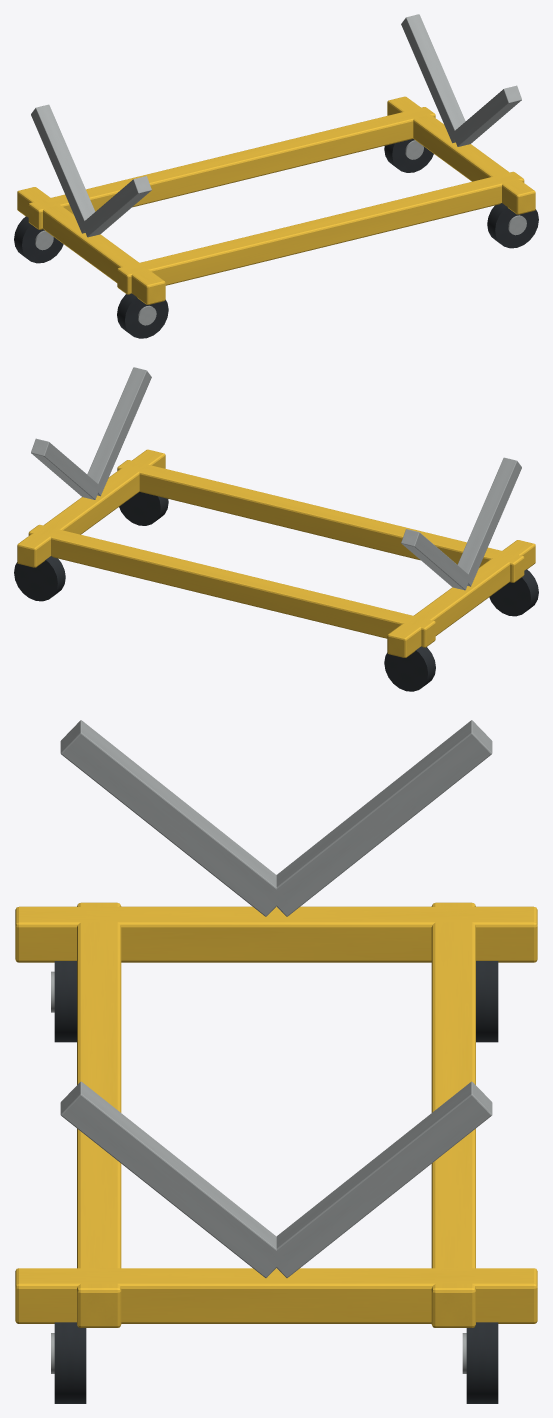
File: stage_handling_dolly.glb
The picture shows the model from 3 angles, top to bottom: view 1: azimuth 30°, elevation 25°; view 2: azimuth 150°, elevation 25°; view 3: azimuth 270°, elevation 25°; orthographic projection. The views are drawn at different scales.
Parts seen in each view (by area): view 1: LongitudinalBeam, LongitudinalBeam.001, Crossmember, Crossmember.001, Saddle.001, Saddle.003, Saddle.002, Saddle, Wheel, Wheel.002, Wheel.001, Wheel.003; view 2: LongitudinalBeam.001, LongitudinalBeam, Crossmember, Crossmember.001, Saddle.002, Saddle, Wheel.001, Wheel.003, Saddle.001, Saddle.003, Wheel, Wheel.002; view 3: Crossmember, Crossmember.001, LongitudinalBeam.001, LongitudinalBeam, Saddle, Saddle.002, Saddle.001, Saddle.003, Wheel.002, Wheel.003, Wheel, Wheel.001.
Part boxes in pixels (x1,y1,x2,y2): LongitudinalBeam: (117, 171, 524, 294); LongitudinalBeam.001: (28, 107, 435, 229); Crossmember: (17, 187, 165, 304); Crossmember.001: (387, 96, 535, 214); Saddle.001: (31, 104, 95, 233); Saddle.003: (401, 14, 465, 143); Saddle.002: (453, 85, 521, 146); Saddle: (84, 176, 151, 237); Wheel: (117, 293, 168, 338); Wheel.002: (487, 203, 538, 248); Wheel.001: (14, 216, 63, 263); Wheel.003: (384, 139, 433, 172); LongitudinalBeam.001: (28, 524, 435, 647); LongitudinalBeam: (117, 460, 524, 582); Crossmember: (387, 540, 535, 657); Crossmember.001: (17, 449, 165, 567); Saddle.002: (87, 367, 151, 496); Saddle: (457, 457, 521, 586); Wheel.001: (384, 646, 435, 691); Wheel.003: (14, 556, 65, 601); Saddle.001: (401, 529, 470, 590); Saddle.003: (31, 438, 99, 499); Wheel: (489, 569, 538, 616); Wheel.002: (119, 492, 168, 525); Crossmember: (15, 906, 537, 962); Crossmember.001: (15, 1268, 537, 1323); LongitudinalBeam.001: (431, 902, 475, 1327); LongitudinalBeam: (77, 902, 121, 1327); Saddle: (60, 720, 284, 916); Saddle.002: (60, 1081, 284, 1277); Saddle.001: (269, 720, 492, 916); Saddle.003: (269, 1081, 492, 1277); Wheel.002: (54, 1322, 86, 1403); Wheel.003: (466, 1322, 498, 1403); Wheel: (54, 961, 76, 1042); Wheel.001: (476, 961, 498, 1042).
Bounding box in the file's own units: 3.02 × 1.09 × 1.65.
3 materials, 3 textured.
